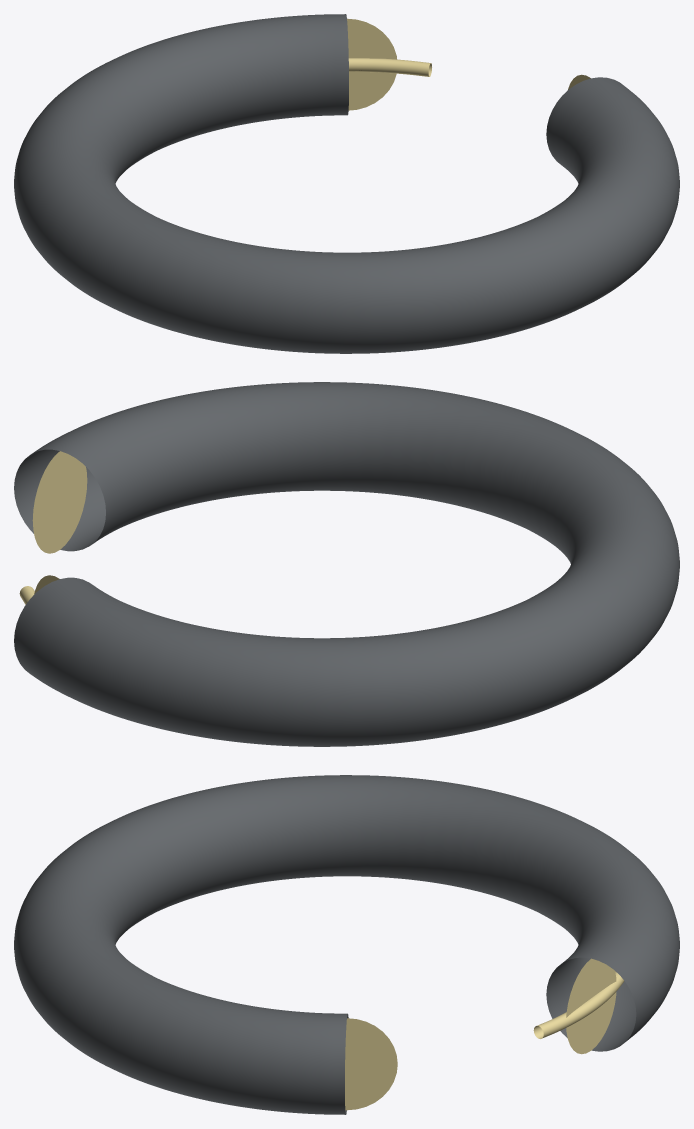
File: interrupted-ring.glb
3 views of the same model, one above another, from view 1: azimuth 30°, elevation 25°; view 2: azimuth 150°, elevation 25°; view 3: azimuth 270°, elevation 25° (orthographic). The views are drawn at different scales.
Visible parts, largest first — view 1: RingBody, CapA, GapLiningActual; view 2: RingBody, CapB; view 3: RingBody, CapB, CapA, GapLiningActual.
Boxes of the visible parts, bbox=[...] form: RingBody: bbox=[14, 14, 679, 353]; CapA: bbox=[347, 18, 397, 110]; GapLiningActual: bbox=[348, 58, 431, 76]; RingBody: bbox=[14, 382, 679, 746]; CapB: bbox=[32, 451, 87, 553]; RingBody: bbox=[14, 775, 679, 1114]; CapB: bbox=[345, 1018, 397, 1110]; CapA: bbox=[566, 958, 616, 1054]; GapLiningActual: bbox=[533, 971, 624, 1038].
Bounding box in the file's own units: 2.36 × 0.36 × 2.36.
